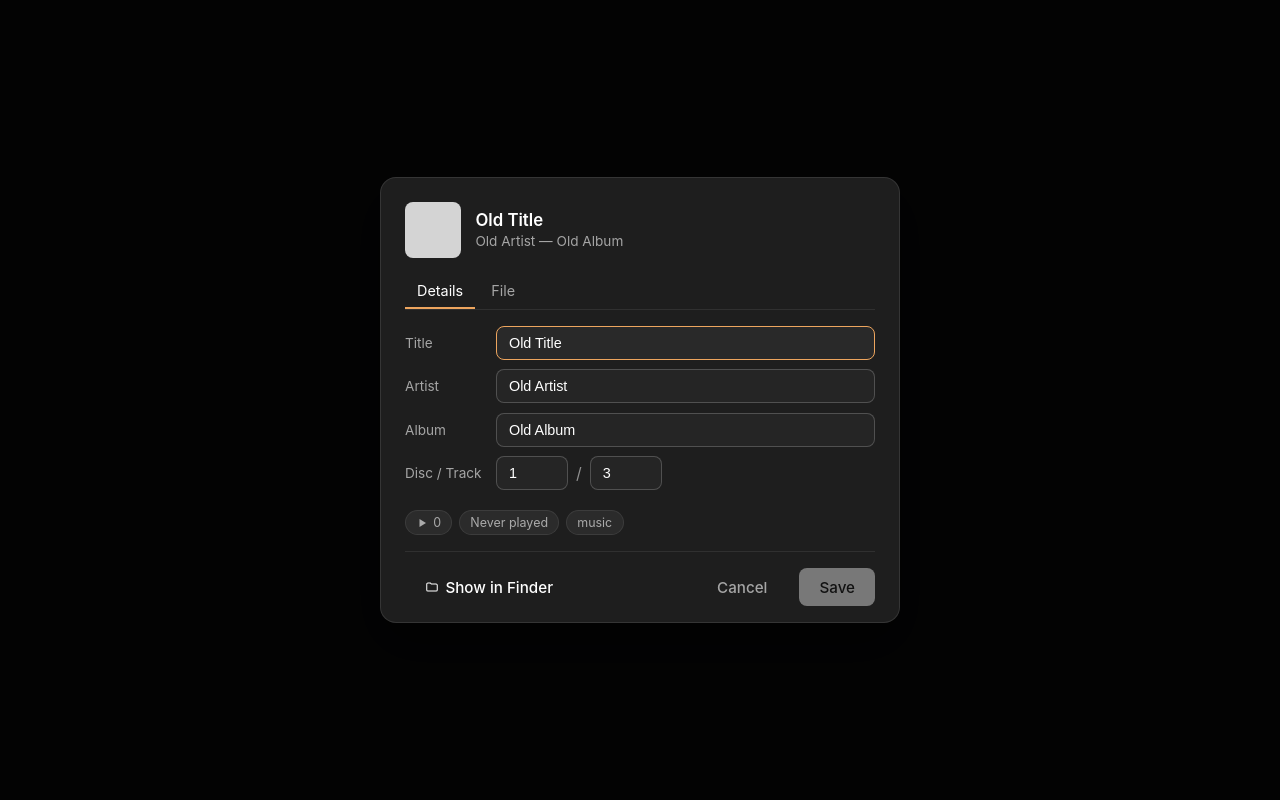
it: TrackInfoModal › shows technical info on the File tab
Check: the field showing "Old Title" is shown, box x1=496 y1=326 x2=875 y2=360
Step 1. Click the tab "File" → (503, 291), box x1=479 y1=274 x2=527 y2=308
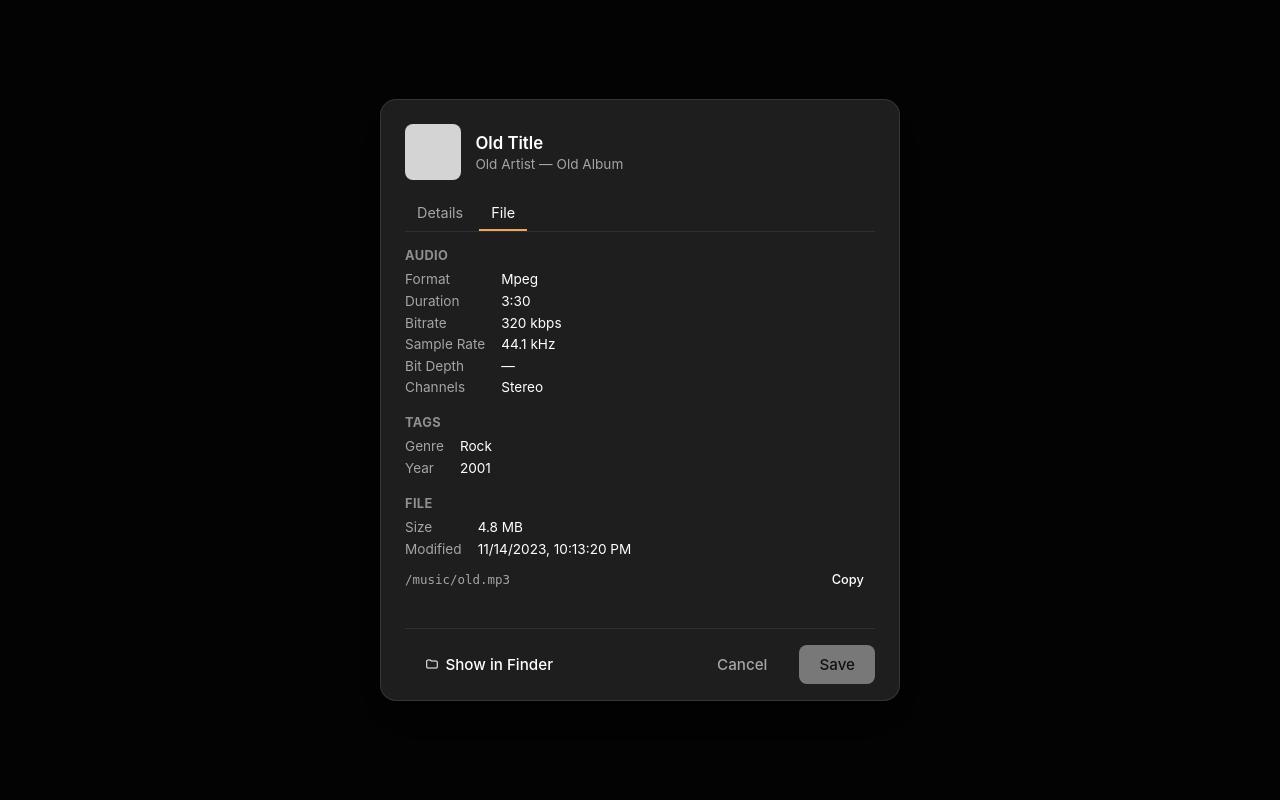
Check: the text "320 kbps" is shown, box x1=501 y1=315 x2=562 y2=331
Check: the text "44.1 kHz" is shown, box x1=501 y1=336 x2=556 y2=352
Check: the text "Stereo" is shown, box x1=501 y1=379 x2=543 y2=395
